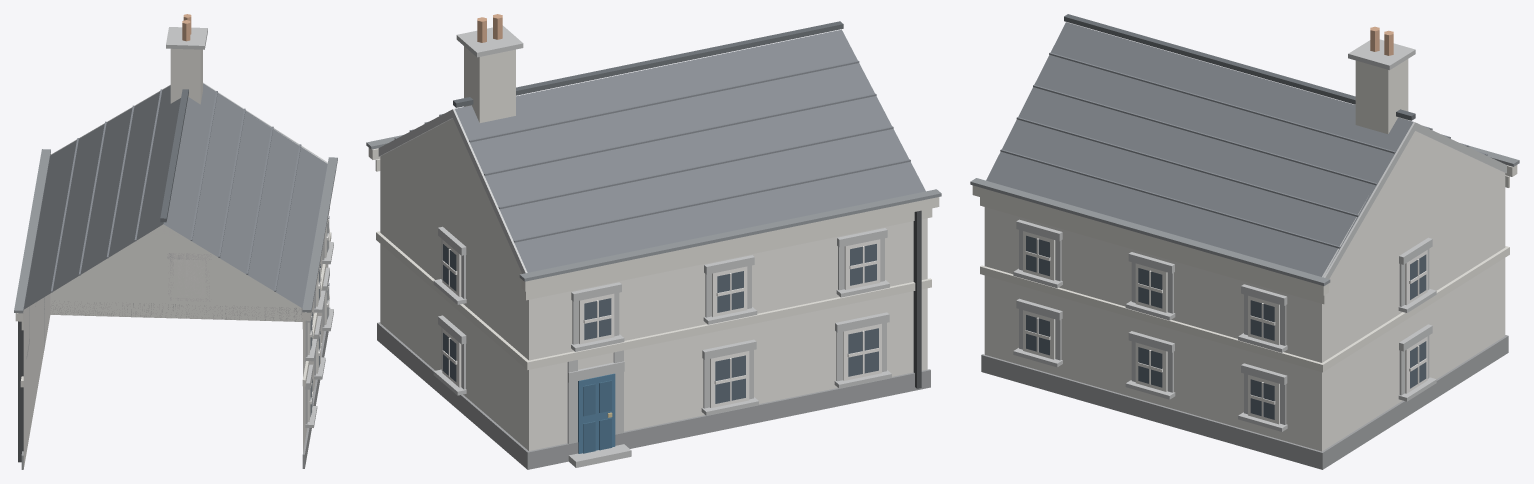
The picture shows the model from 3 angles, left to right: view 1: azimuth 30°, elevation 25°; view 2: azimuth 150°, elevation 25°; view 3: azimuth 270°, elevation 25°; orthographic projection. The views are drawn at different scales.
Visible parts, largest first — view 1: slate, harl, lead, stone_band, slate_lt, chim_render, frame, slate_dk, plinth, pipe, string; view 2: slate, harl, stone_band, string, plinth, frame, slate_lt, lead, chim_render, slate_dk, door_blue_p, pipe (+6 smaller); view 3: harl, slate, stone_band, string, plinth, frame, slate_lt, lead, chim_render, slate_dk, window_glass_010, window_glass_011 (+5 smaller).
Boxes of the visible parts, x1,y1,x2,y2 form: slate: (24,83,327,309); harl: (23,224,328,468); lead: (14,149,337,313); stone_band: (26,27,333,427); slate_lt: (51,89,301,292); chim_render: (170,48,202,104); frame: (29,217,329,421); slate_dk: (160,89,188,222); plinth: (21,301,330,469); pipe: (18,321,23,462); string: (15,153,336,387); slate: (455,29,925,272); harl: (380,118,927,450); stone_band: (378,25,891,467); string: (368,148,939,369); plinth: (377,322,930,469); frame: (442,239,881,407); slate_lt: (394,60,910,242); lead: (366,135,941,281); chim_render: (464,46,515,122); slate_dk: (453,21,843,107); door_blue_p: (583,380,611,453); pipe: (913,210,921,388); harl: (984,131,1505,451); slate: (986,22,1413,276); stone_band: (1013,39,1506,431); string: (972,165,1517,372); plinth: (981,335,1508,469); frame: (1023,231,1427,424); slate_lt: (1000,52,1487,248); lead: (970,146,1519,285); chim_render: (1355,59,1408,133); slate_dk: (1064,14,1415,120); window_glass_010: (1250,379,1274,419); window_glass_011: (1250,300,1274,340).
Bounding box in the file's own units: 13.12 × 9.84 × 13.21.
